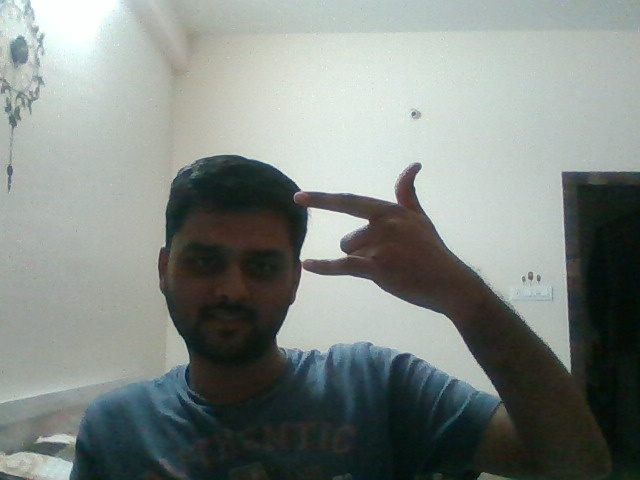haila: (276, 154, 482, 324)
